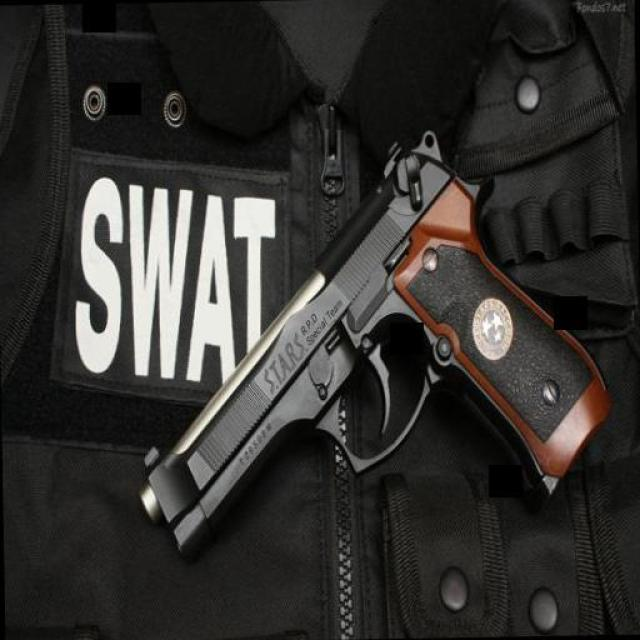gun: (131, 117, 615, 575)
